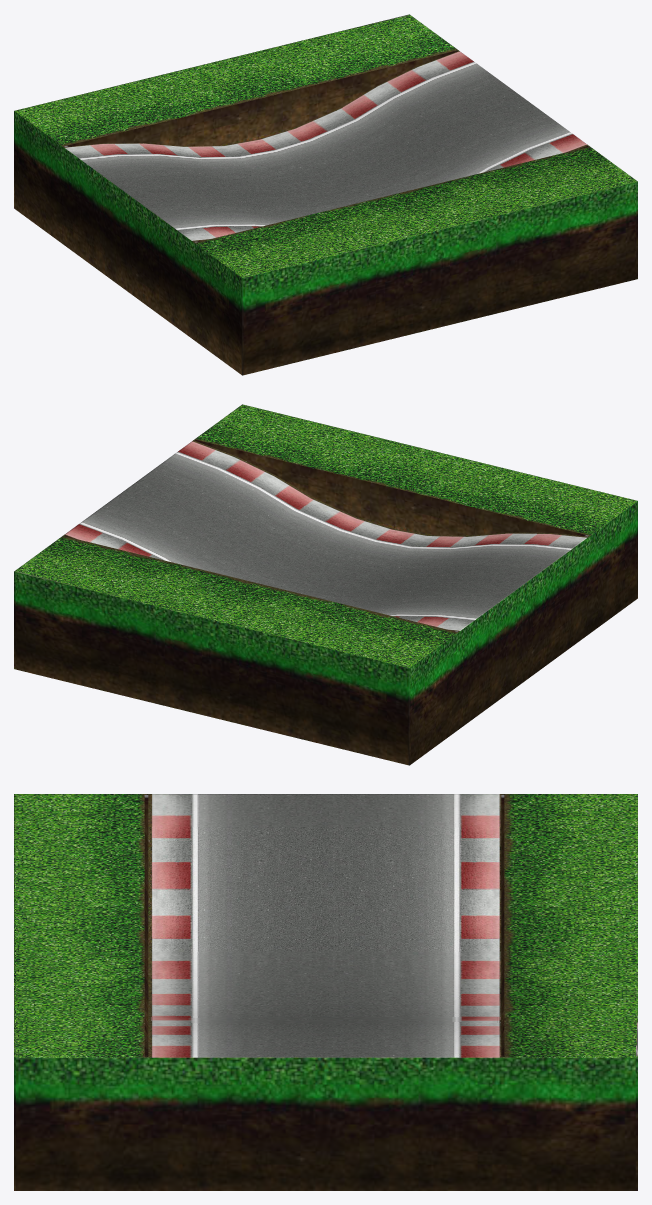
The model's file is road under.fbx.
The picture shows the model from 3 angles, top to bottom: view 1: azimuth 30°, elevation 25°; view 2: azimuth 150°, elevation 25°; view 3: azimuth 270°, elevation 25°; orthographic projection. The views are drawn at different scales.
Parts seen in each view (by area): view 1: road under; view 2: road under; view 3: road under.
Boxes of the visible parts, x1=… form: road under: x1=14, y1=14, x2=637, y2=375; road under: x1=14, y1=404, x2=637, y2=765; road under: x1=14, y1=794, x2=637, y2=1190.
Size of the model in its own units: 390 by 91.83 by 390.
